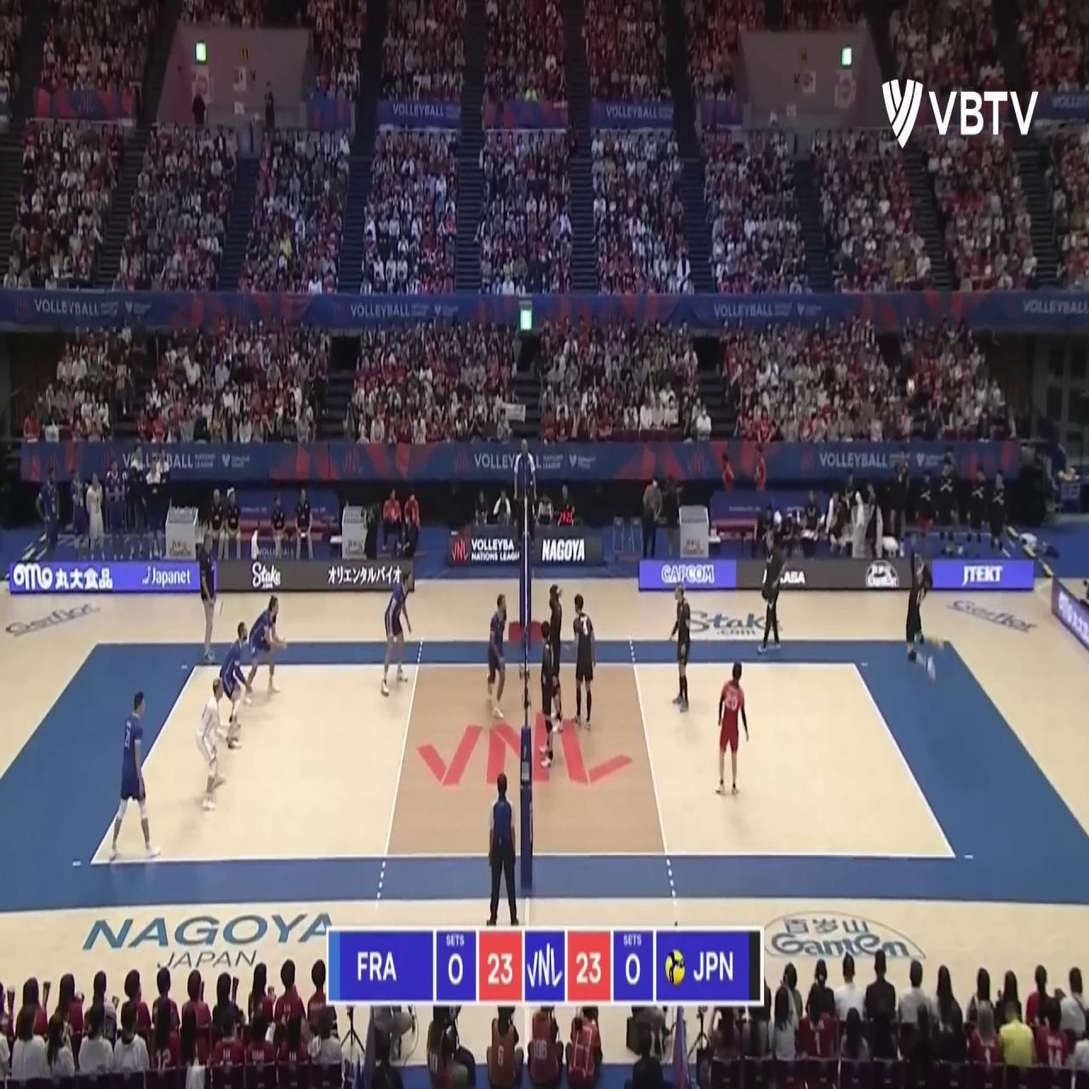ball: (906, 378, 915, 397)
